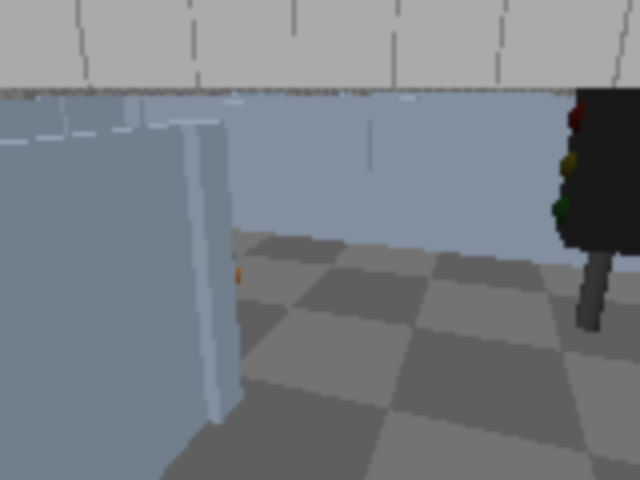traffic_light: (542, 72, 638, 352)
